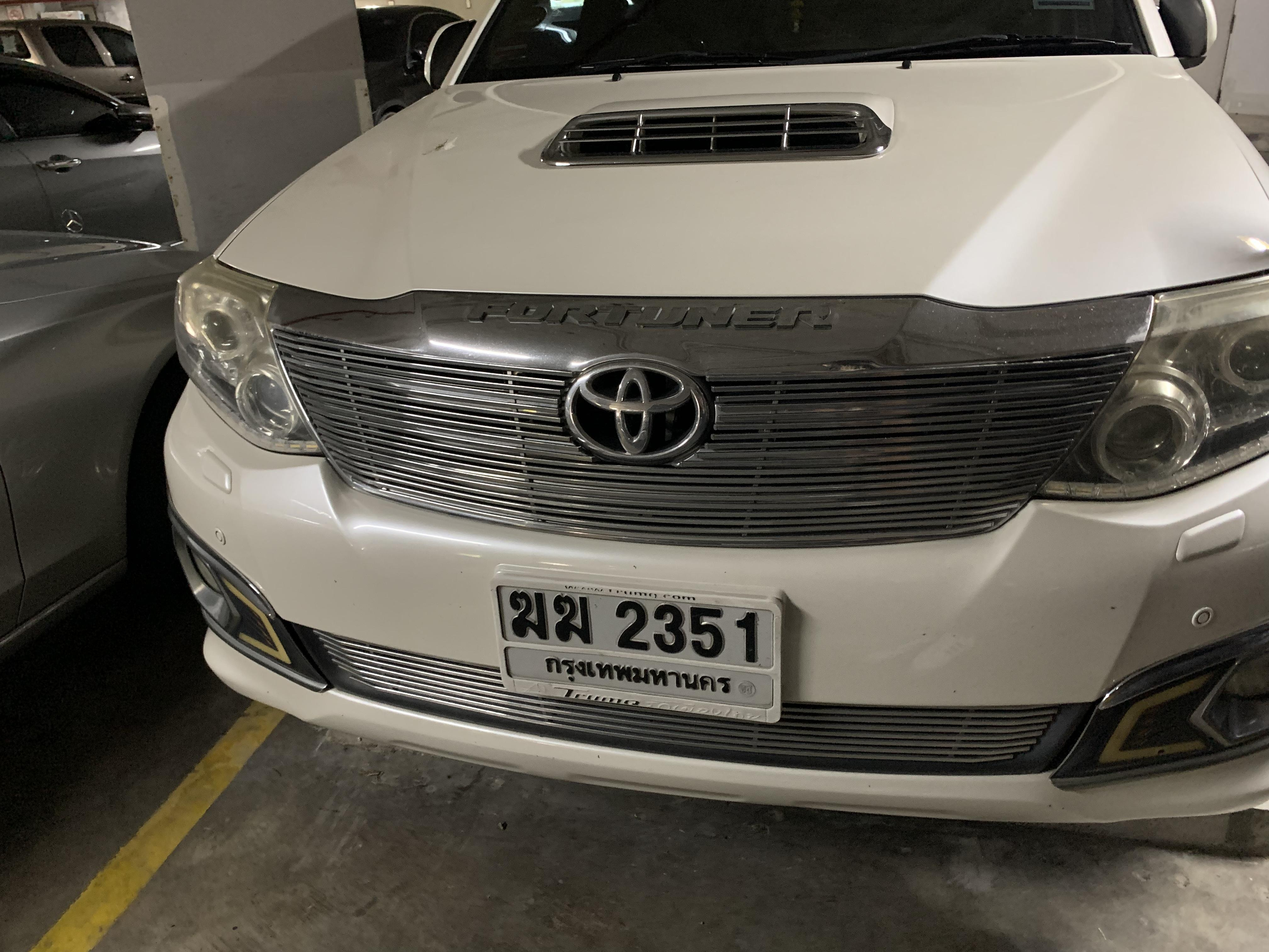license-plate: (488, 559, 790, 726)
